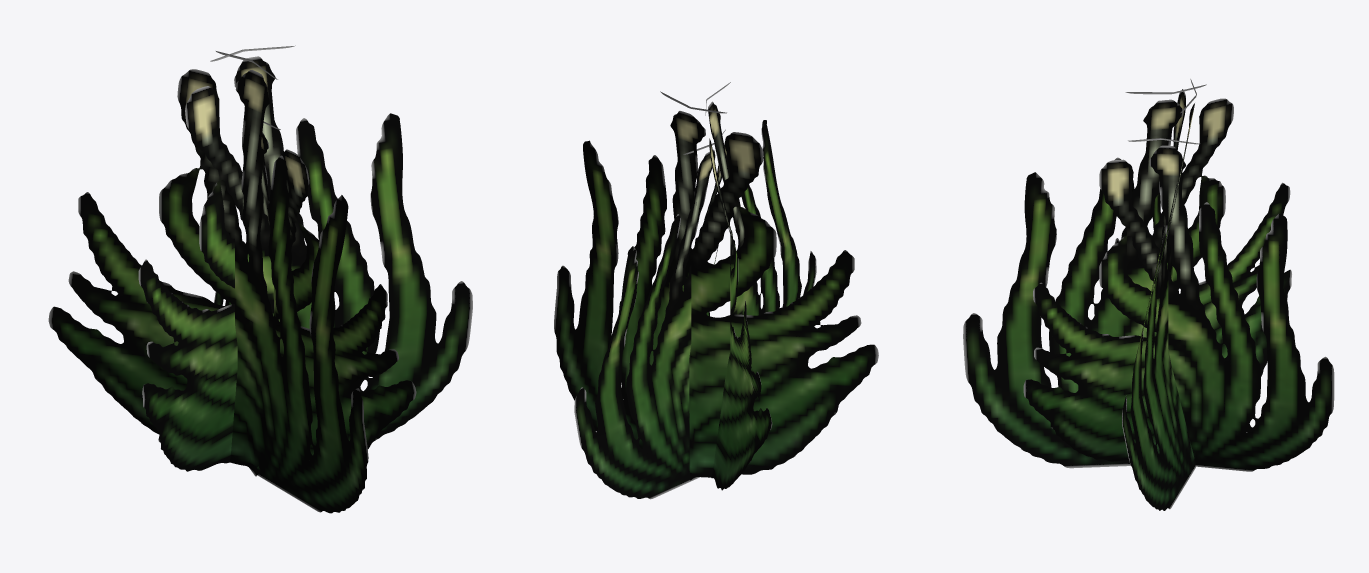
Rendered from WindBulbs.fbx.
3 renders of one model, left to right at view 1: azimuth 30°, elevation 25°; view 2: azimuth 150°, elevation 25°; view 3: azimuth 270°, elevation 25°, orthographic. The views are drawn at different scales.
Parts seen in each view (by area): view 1: WindBulbs; view 2: WindBulbs; view 3: WindBulbs.
Part boxes in pixels (box(x1,y1,x2,y2)): WindBulbs: box(48, 45, 472, 513); WindBulbs: box(554, 82, 878, 499); WindBulbs: box(963, 79, 1334, 510).
Size of the model in its own units: 400 by 400 by 405.
Materials: 1 (1 with a texture image).
